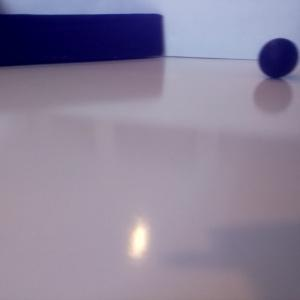zone: (1, 13, 165, 68)
